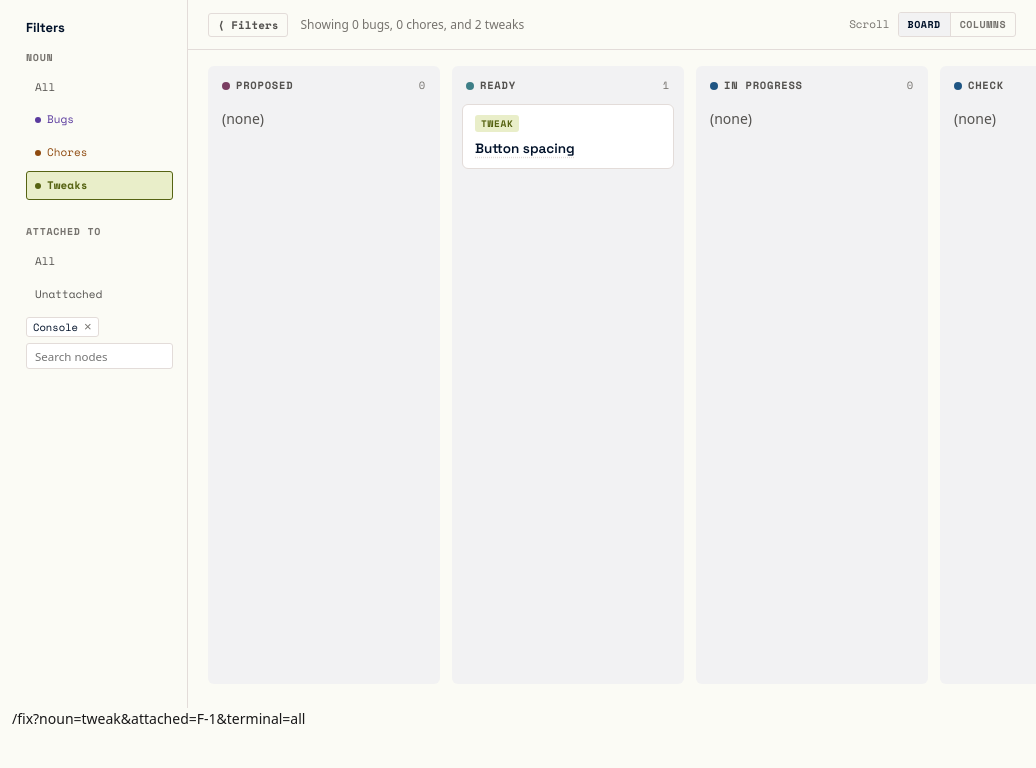
Fix board › renders a distinct Tweak label and combines noun selections without losing attachment or closed history
Expected: the element named "Ready" shows "tweak", left=481, top=116, right=513, bottom=130
Expected: the text "Zulu" is not shown
Click the link "Bugs": (60, 119) left=47, top=111, right=74, bottom=127
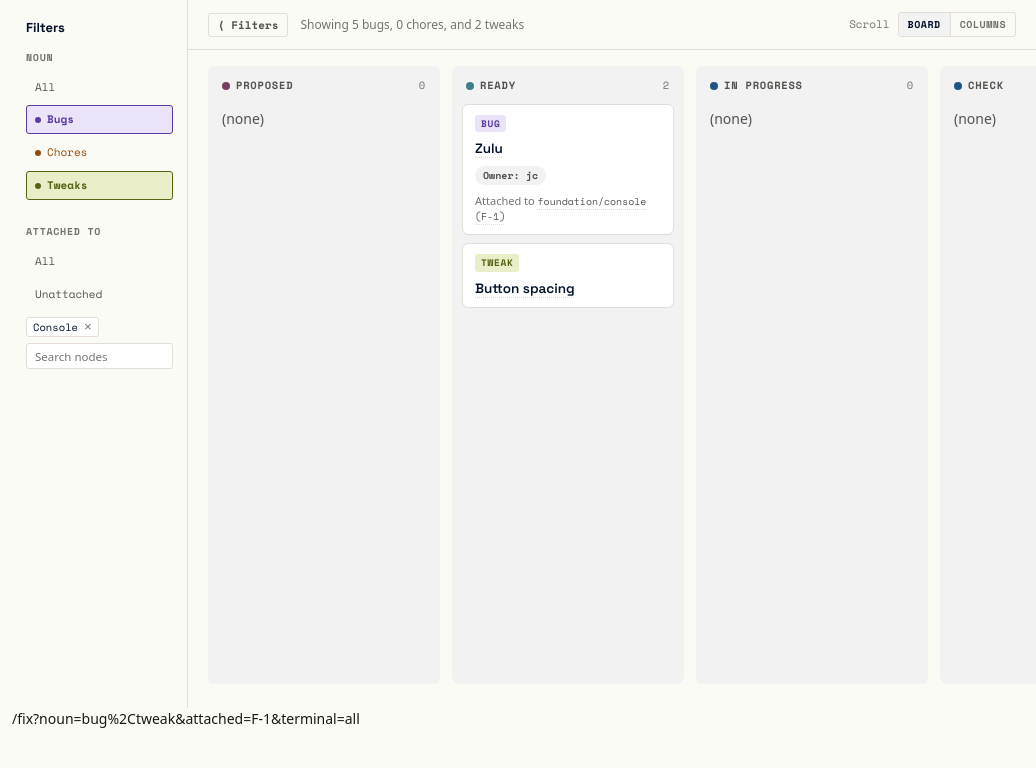
Now the link "Zulu" is shown, box left=475, top=140, right=503, bottom=158
Now the text with test id "location" shows "noun=bug%2Ctweak&attached=F-1&terminal=all", box left=12, top=709, right=360, bottom=728
